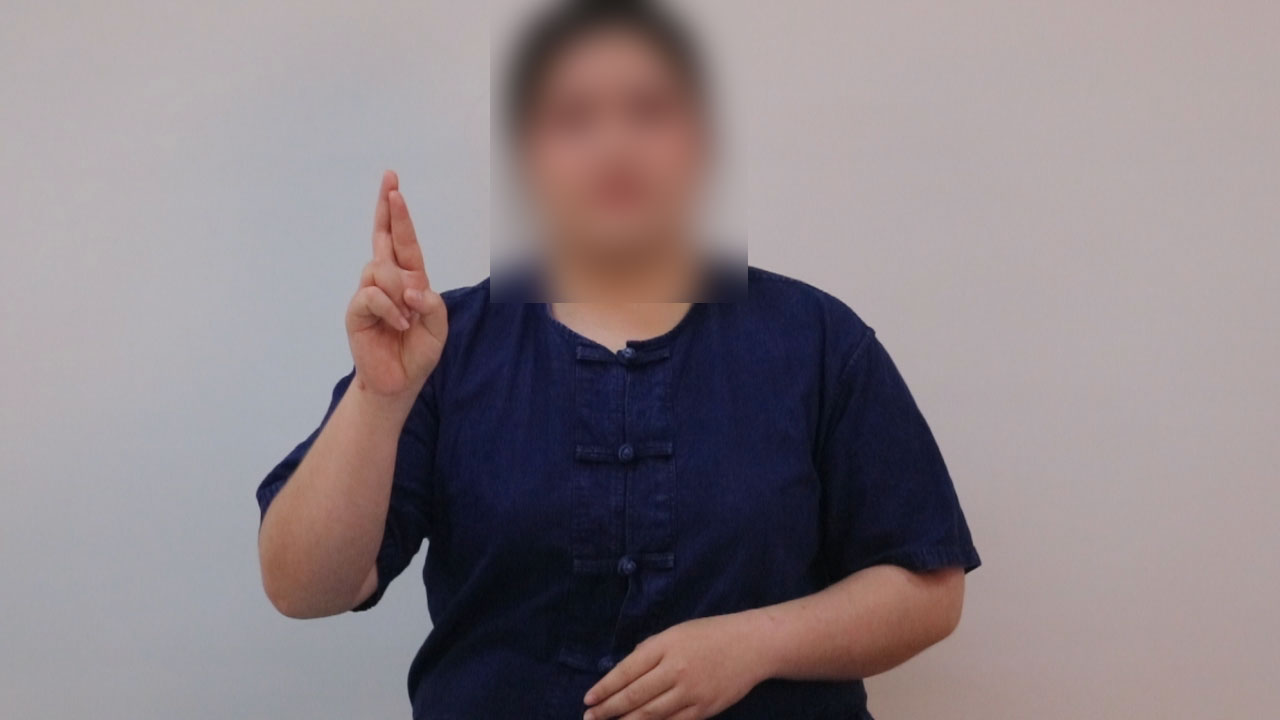rao: (326, 160, 466, 430)
